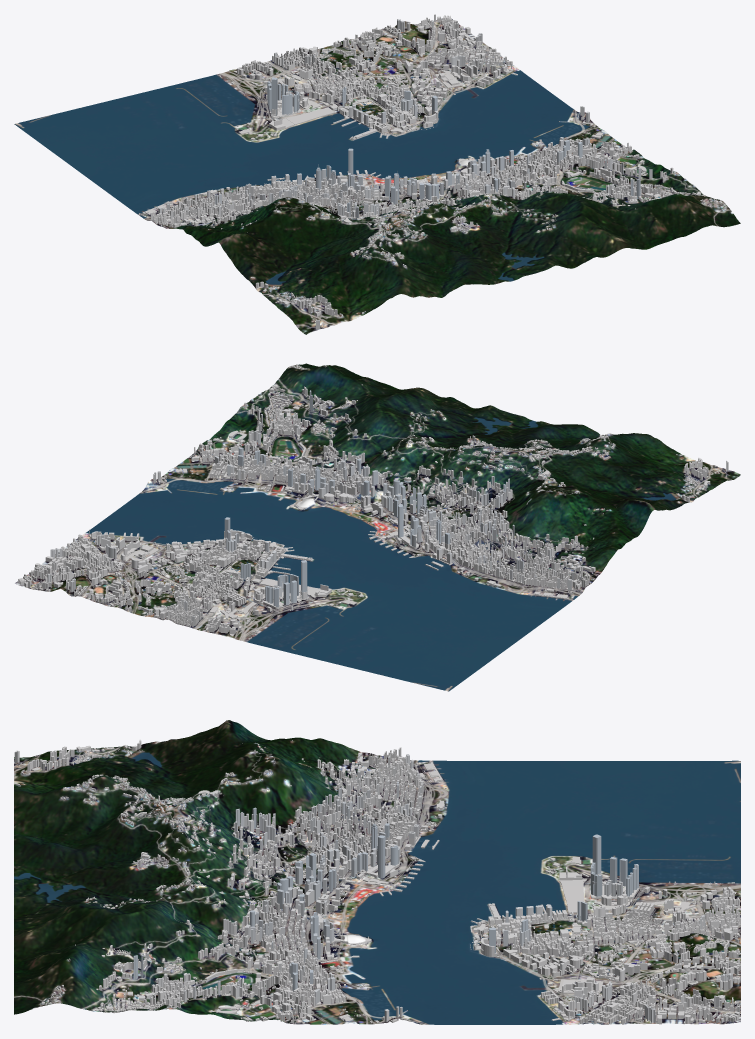
File: hongkong-victoria-harbour.glb
3 renders of one model, top to bottom at view 1: azimuth 30°, elevation 25°; view 2: azimuth 150°, elevation 25°; view 3: azimuth 270°, elevation 25°, orthographic. The views are drawn at different scales.
Parts seen in each view (by area): view 1: terrain, buildings; view 2: terrain, buildings; view 3: terrain, buildings.
Part boxes in pixels (x1,y1,x2,y2): terrain: (14,16,740,334); buildings: (139,14,727,329); terrain: (14,363,740,691); buildings: (18,365,731,639); terrain: (14,720,740,1024); buildings: (14,739,740,1024).
Size of the model in its own units: 5810 by 549 by 6760.
2 materials, 1 textured.
